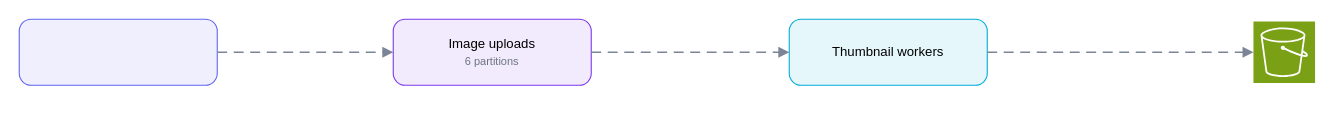
The diagram is 1338 pixels wide and 125 high, and some of its shapes have lost their labels. The shapes that lost their labels are listed below. From the top down, each one's centre as x and y in pixels, then its label:
At [117,51]: "Upload clients".
At [1283,51]: "Thumbnails".
